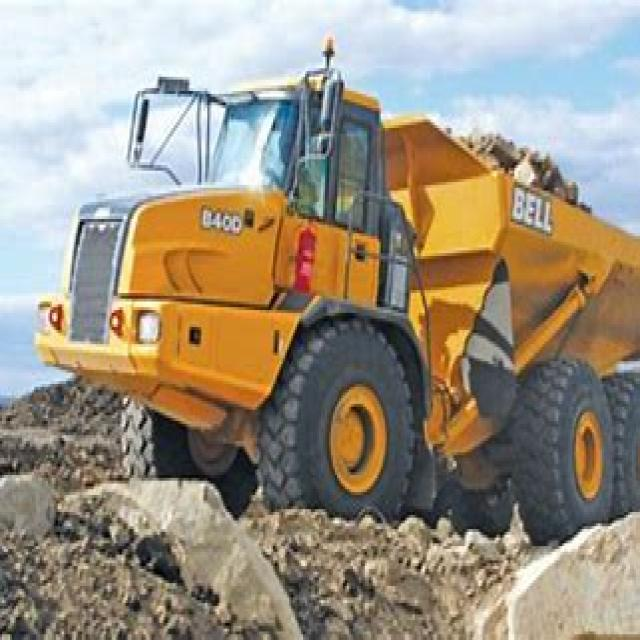dump_truck: (36, 37, 638, 549)
